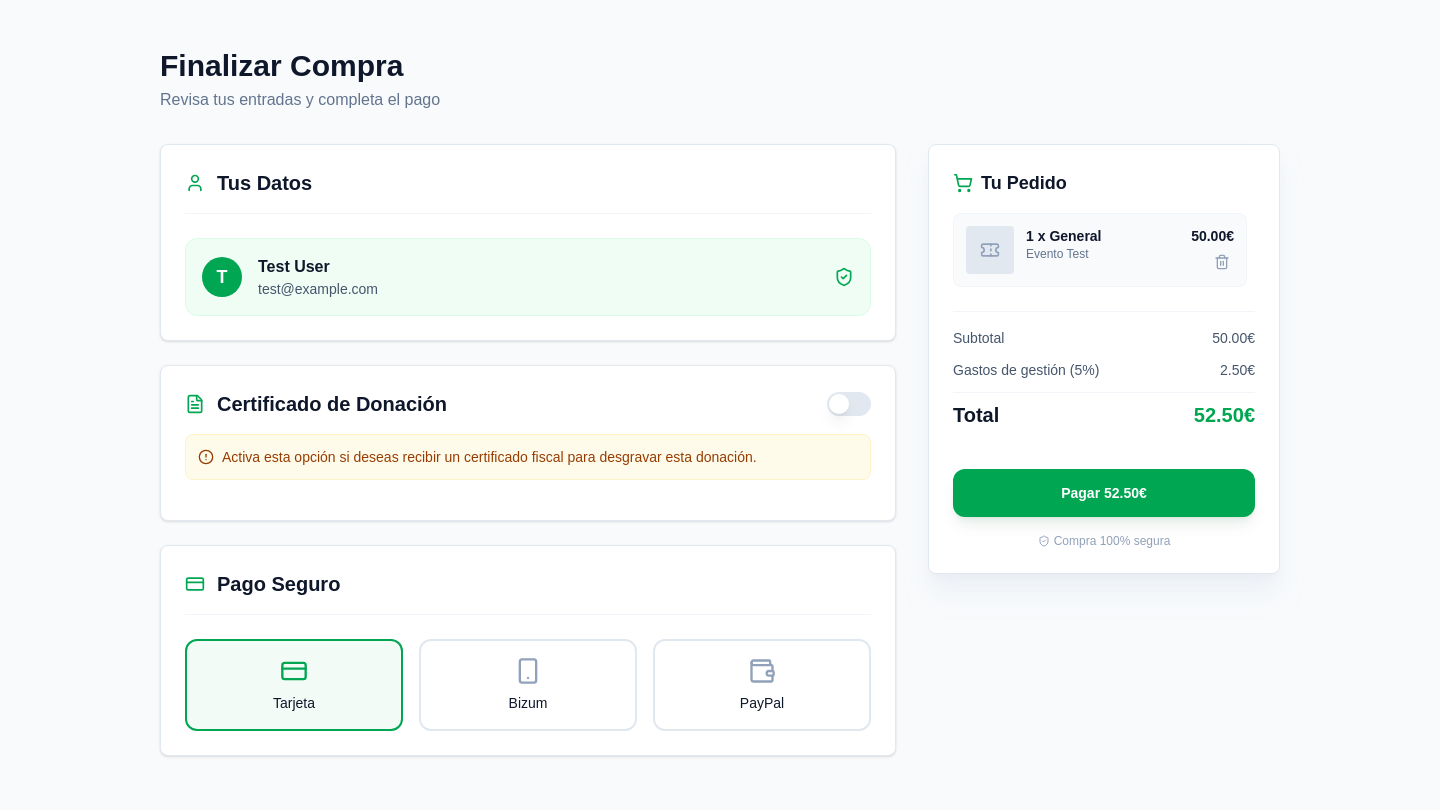
Test: Checkout - Branches Coverage › Solicitar certificado de donación › debe mostrar selector de datos fiscales existentes cuando se activa certificado
Click the switch at [849, 404], box [827,392,871,416]
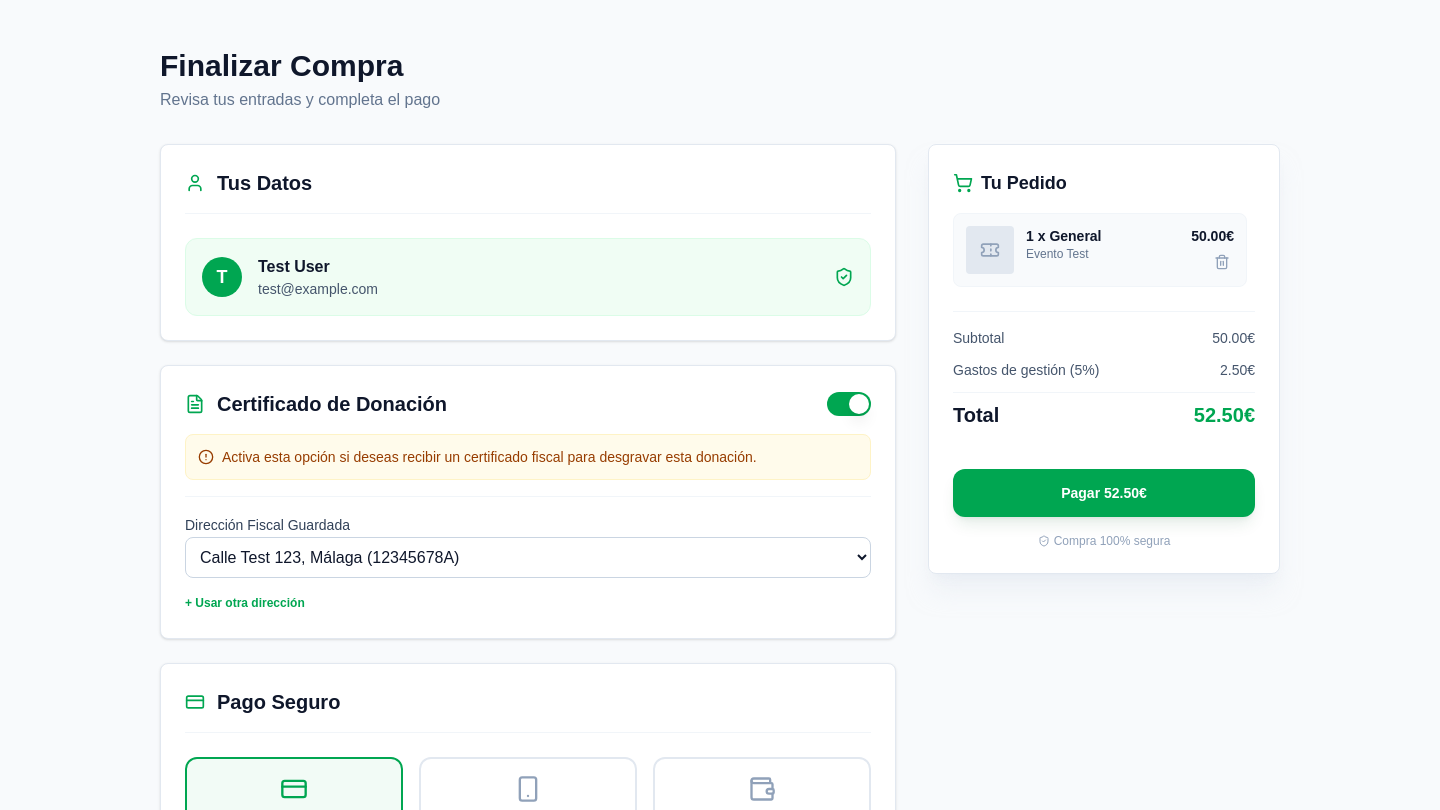
Check: the text "Dirección Fiscal Guardada" is shown, box [185,517,350,533]
